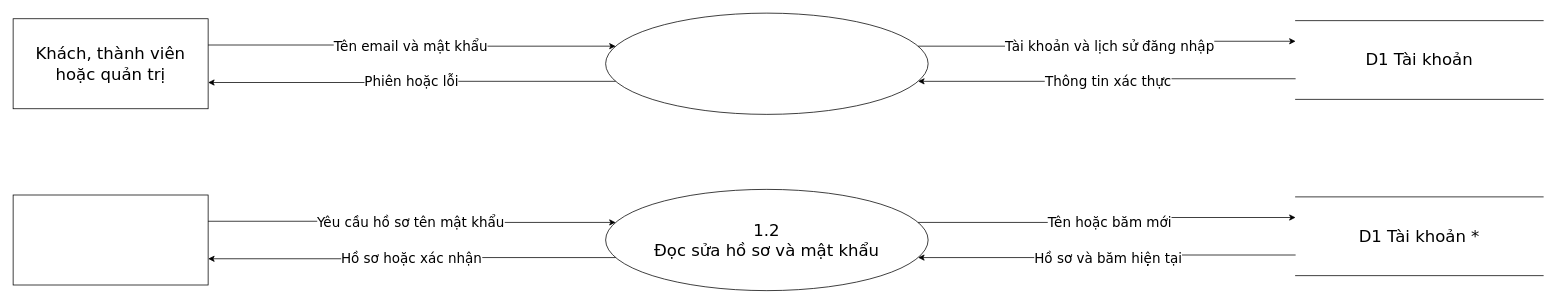
Some shapes in this 1556 by 304 pixel diagram are drawn without their labels. The centre of each missing label's shape, as x and y in pixels:
"1.1 Đăng ký và đăng nhập" goes at pixel 766 63.
"Thành viên" goes at pixel 110 239.
